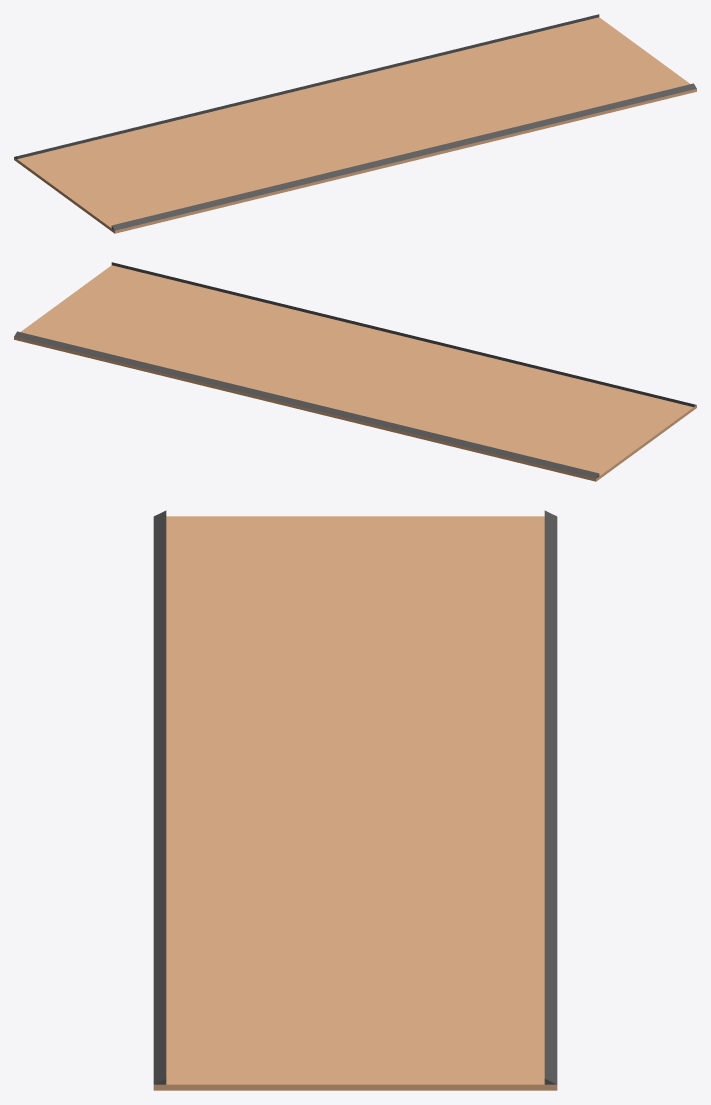
File: platform.fbx
The picture shows the model from 3 angles, top to bottom: view 1: azimuth 30°, elevation 25°; view 2: azimuth 150°, elevation 25°; view 3: azimuth 270°, elevation 25°; orthographic projection. The views are drawn at different scales.
Visible parts, largest first — view 1: Cube; view 2: Cube; view 3: Cube.
Boxes of the visible parts, x1=… form: Cube: x1=14, y1=14, x2=696, y2=233; Cube: x1=14, y1=262, x2=696, y2=481; Cube: x1=153, y1=510, x2=557, y2=1090.
Size of the model in its own units: 12000 by 119 by 3600.
